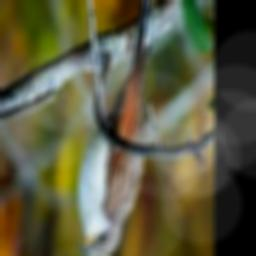Cuckoo: (78, 0, 156, 256)
